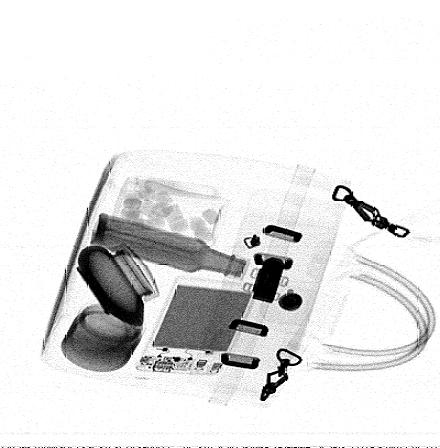Powerbank: (131, 277, 254, 377)
